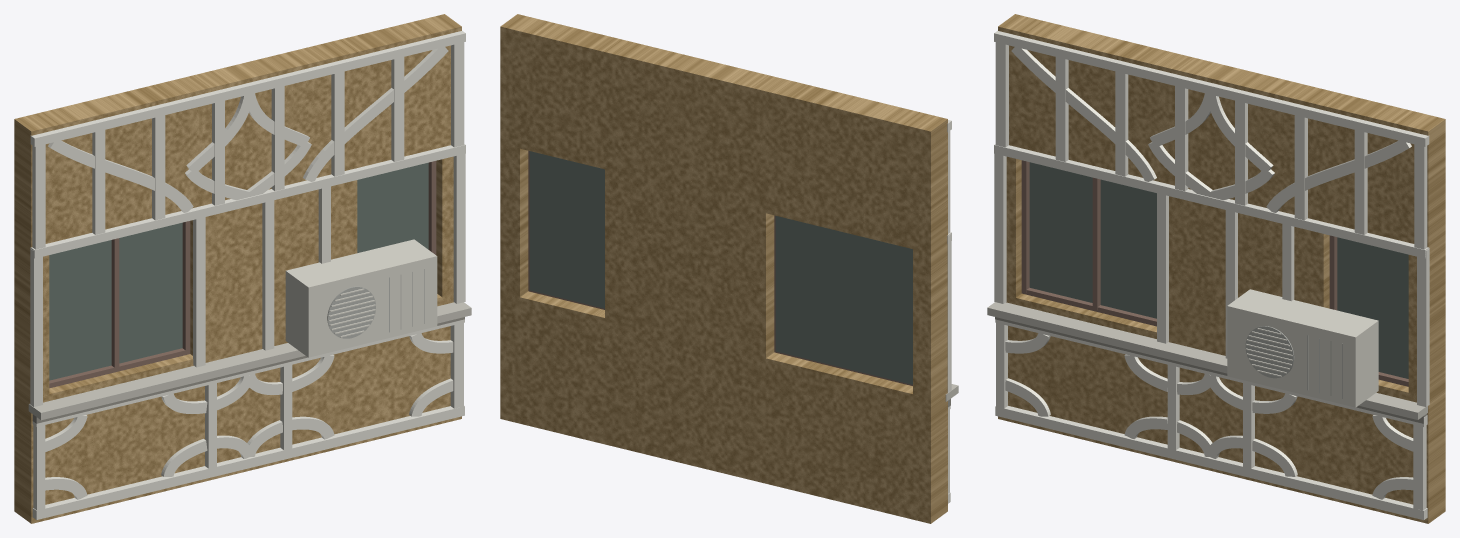
Rendered from sinan-48-courtyard-curved-bands-near.glb.
The picture shows the model from 3 angles, left to right: view 1: azimuth 30°, elevation 25°; view 2: azimuth 150°, elevation 25°; view 3: azimuth 330°, elevation 25°; orthographic projection.
Parts seen in each view (by area): view 1: 思南路48号住宅院侧曲纹窗间与白色贴条; view 2: 思南路48号住宅院侧曲纹窗间与白色贴条; view 3: 思南路48号住宅院侧曲纹窗间与白色贴条.
Boxes of the visible parts, <box> form: 思南路48号住宅院侧曲纹窗间与白色贴条: <box>14,14,471,523</box>; 思南路48号住宅院侧曲纹窗间与白色贴条: <box>500,14,958,523</box>; 思南路48号住宅院侧曲纹窗间与白色贴条: <box>987,14,1445,523</box>.
Bounding box in the file's own units: 4.35 × 3.78 × 0.737.
8 materials, 1 textured.
